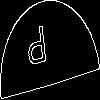P: (25, 24, 49, 76)
